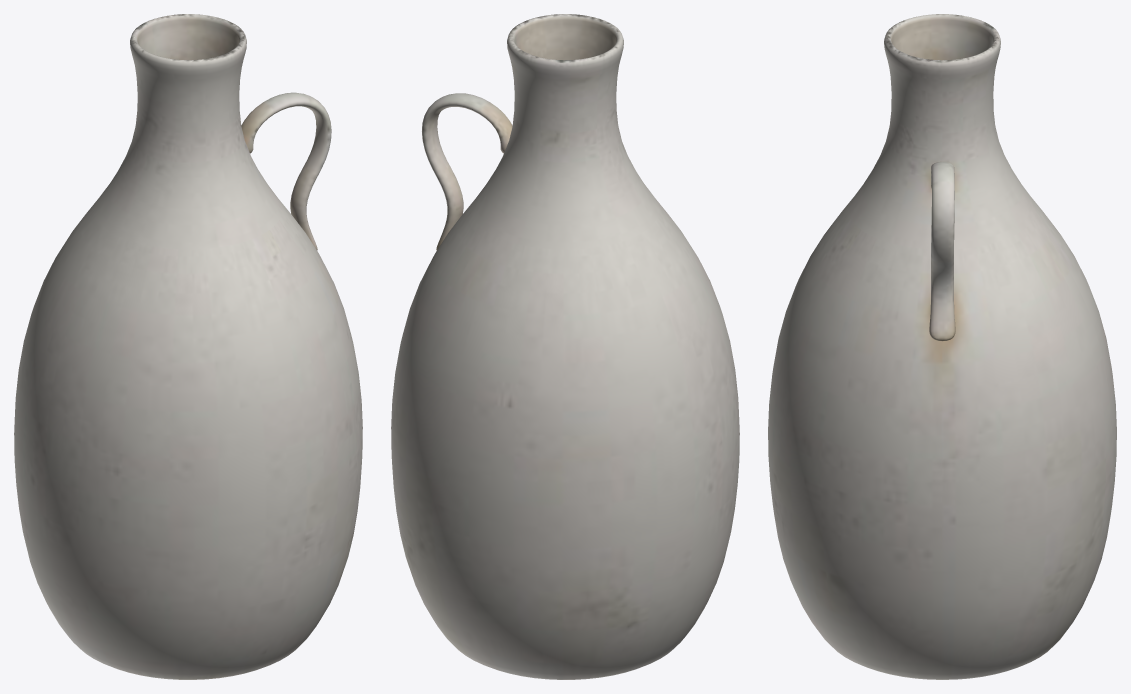
Rendered from polyhaven-ceramic-vase-04.glb.
The picture shows the model from 3 angles, left to right: view 1: azimuth 30°, elevation 25°; view 2: azimuth 150°, elevation 25°; view 3: azimuth 270°, elevation 25°; orthographic projection.
Parts seen in each view (by area): view 1: ceramic_vase_04; view 2: ceramic_vase_04; view 3: ceramic_vase_04.
Boxes of the visible parts, x1,y1,x2,y2 form: ceramic_vase_04: [14, 14, 362, 679]; ceramic_vase_04: [391, 14, 739, 679]; ceramic_vase_04: [768, 14, 1116, 679].
Bounding box in the file's own units: 0.1811 × 0.3419 × 0.1811.
Materials: 1 (1 with a texture image).
